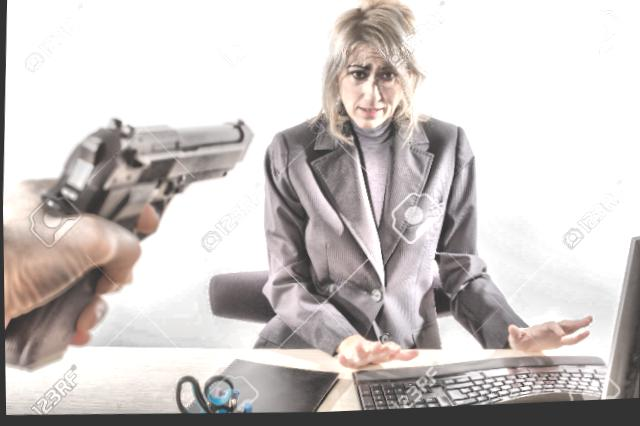pistol: (1, 111, 259, 378)
